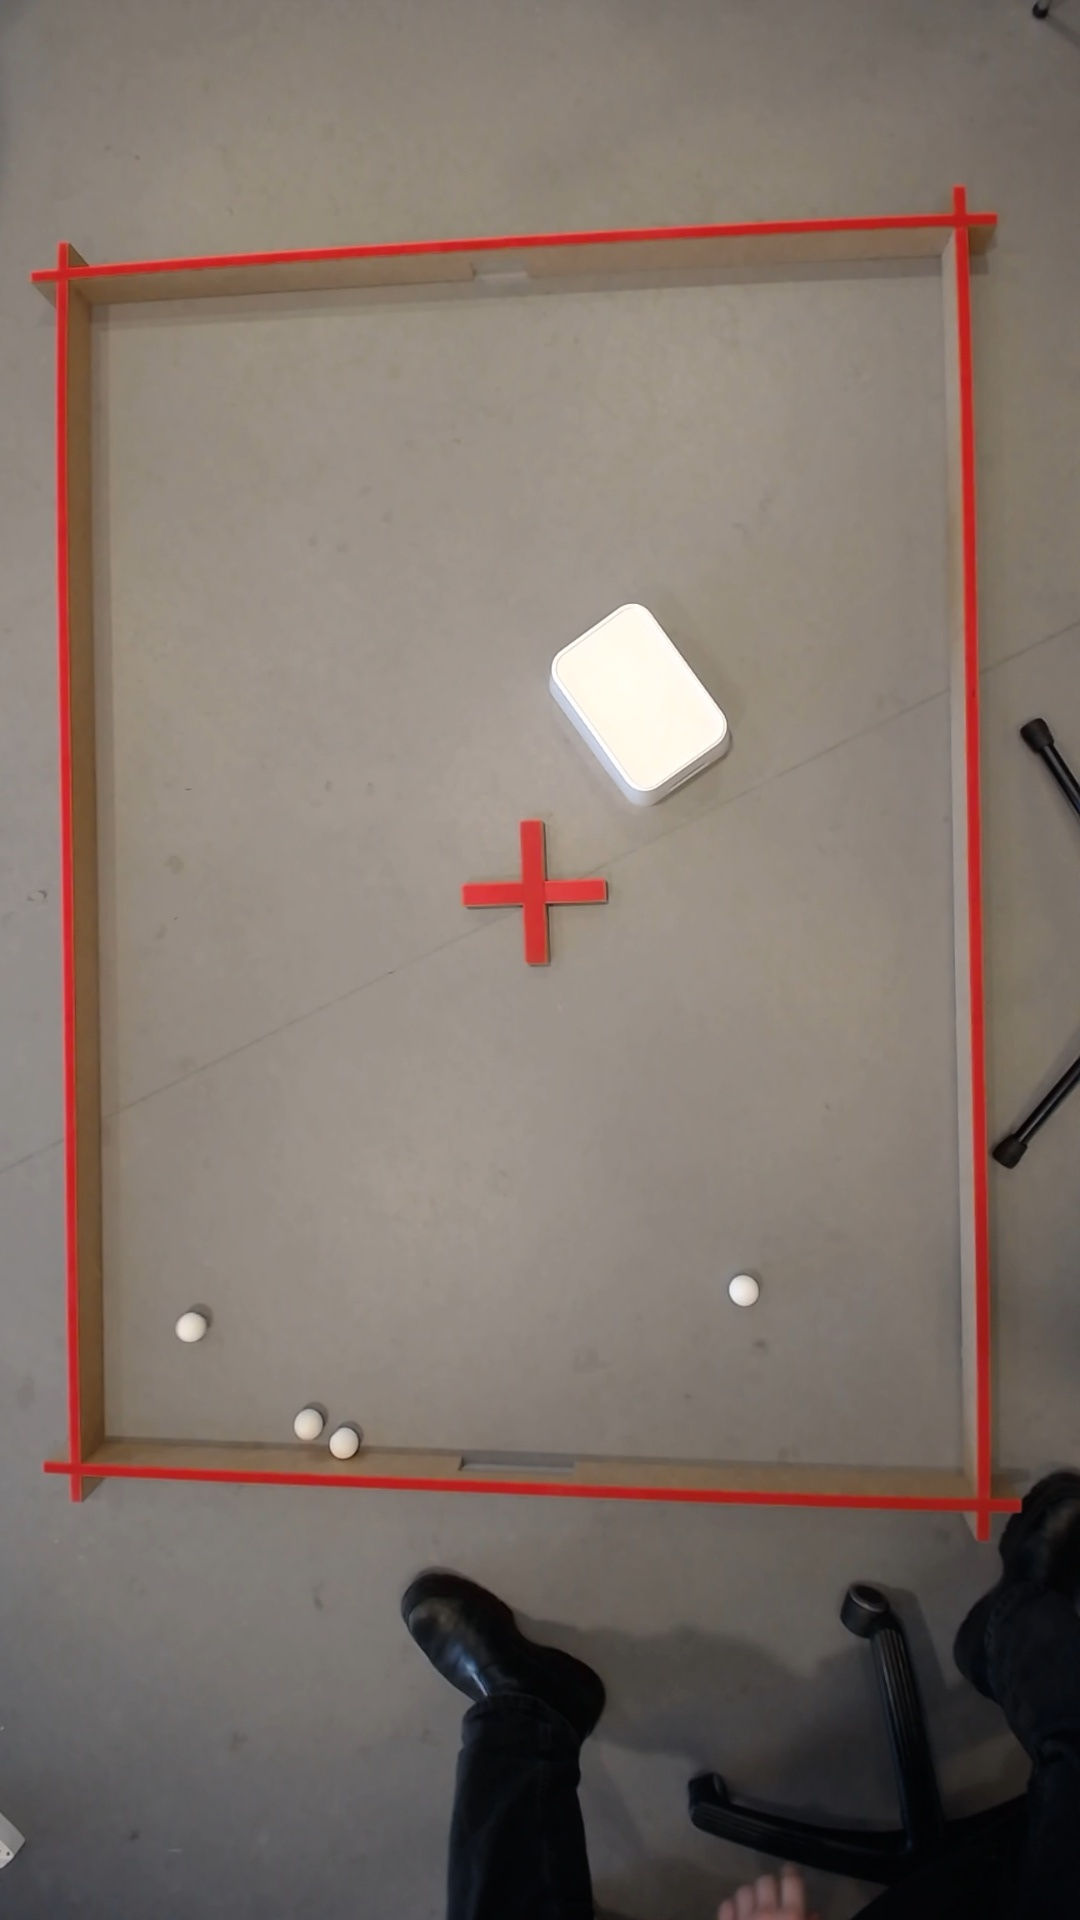balls: (533, 592, 736, 804), (721, 1271, 760, 1308), (171, 1311, 204, 1345), (324, 1427, 355, 1458)
car: (289, 1410, 318, 1439)
